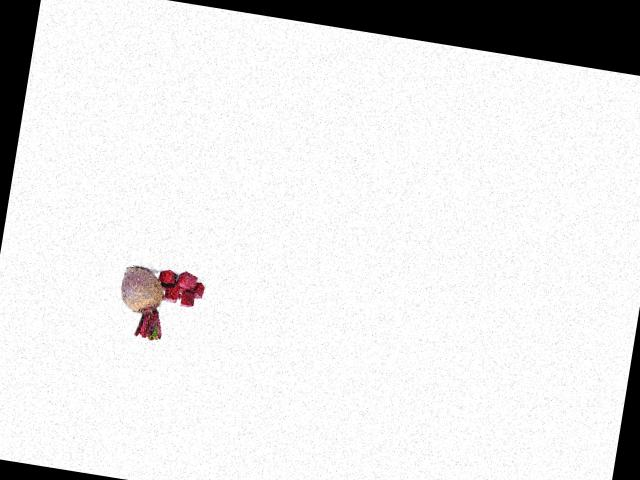beet: (114, 264, 172, 340)
